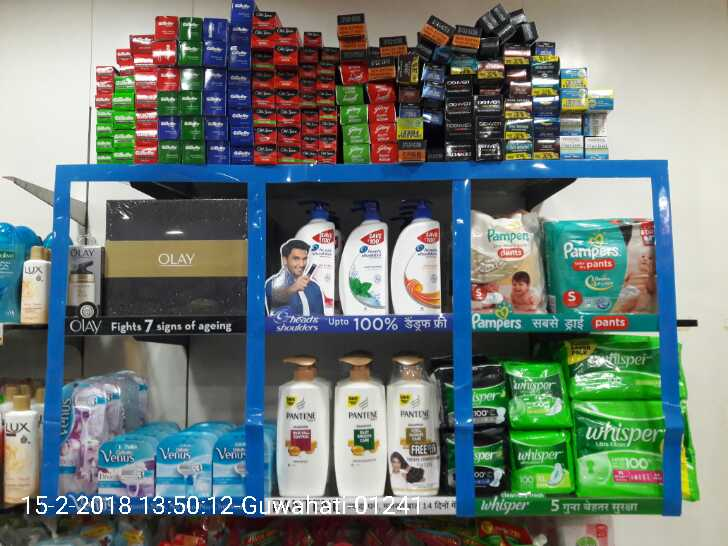venus: (59, 382, 102, 497), (102, 437, 162, 497), (214, 432, 267, 493), (162, 437, 214, 493)
